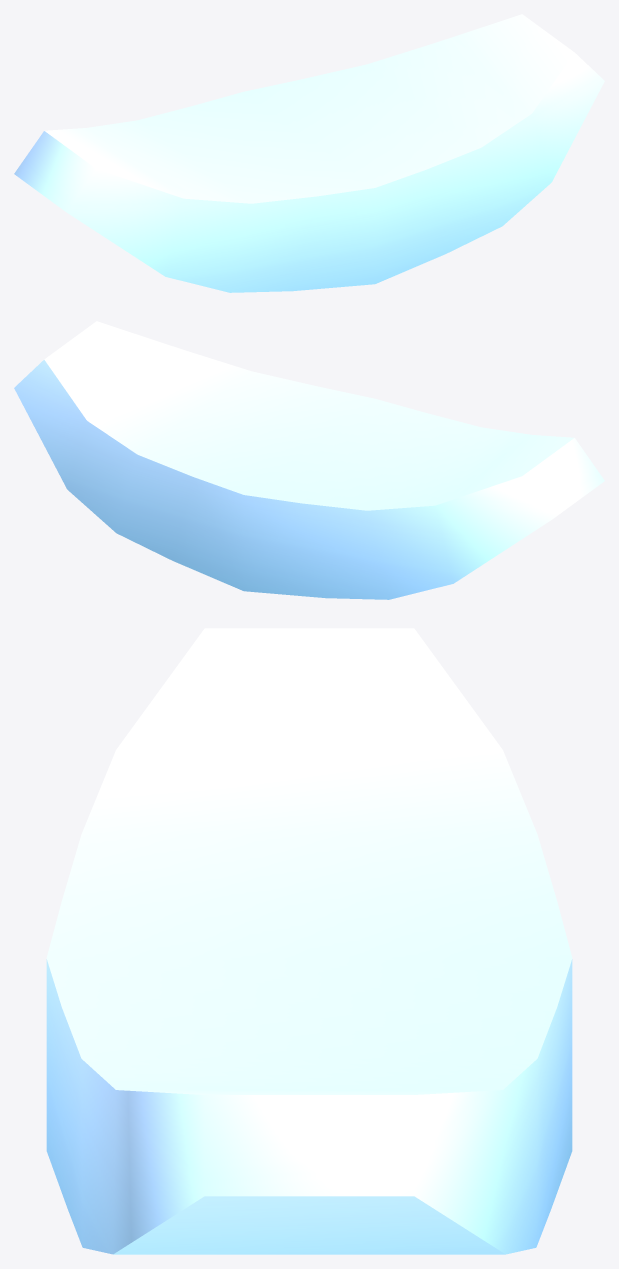
File: steel_guard_057.glb
3 views of the same model, one above another, from view 1: azimuth 30°, elevation 25°; view 2: azimuth 150°, elevation 25°; view 3: azimuth 270°, elevation 25° (orthographic). The views are drawn at different scales.
Parts seen in each view (by area): view 1: steel_guard_057; view 2: steel_guard_057; view 3: steel_guard_057.
Part boxes in pixels (box(x1,y1,x2,y2)): steel_guard_057: box(14, 14, 604, 292); steel_guard_057: box(14, 321, 604, 599); steel_guard_057: box(46, 628, 572, 1254).
Bounding box in the file's own units: 6.9 × 1.77 × 2.92.
1 material, 1 textured.
